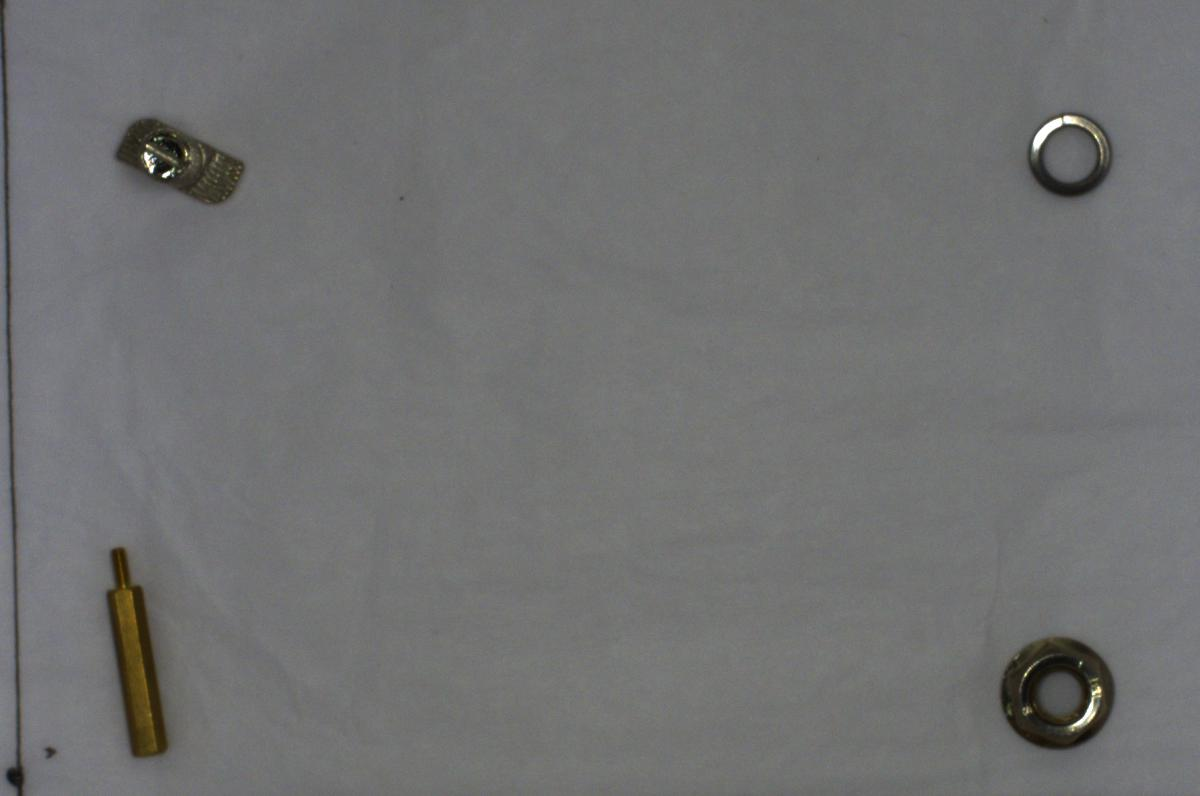Flange nut: (986, 613, 1121, 760)
Hexagon pillar: (84, 533, 186, 773)
Spring washer: (1026, 102, 1121, 199)
T-shaped screw: (102, 101, 253, 213)
